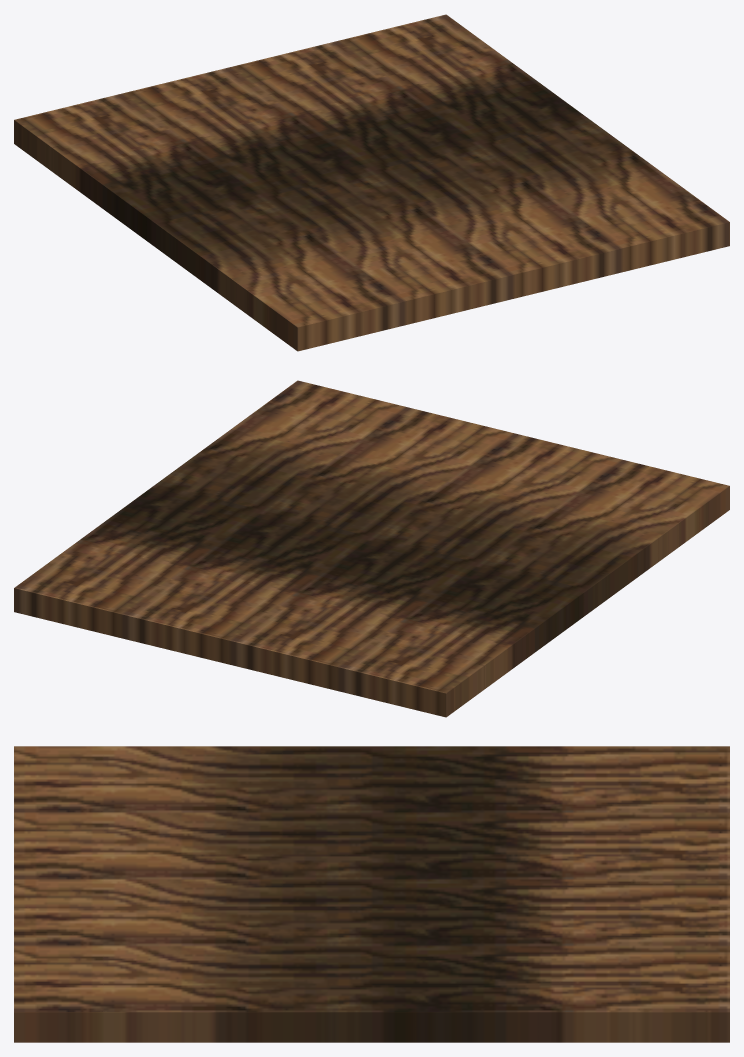
File: SWORDLIGHT20_MAINCAVPLAT02CONV02.fbx
3 renders of one model, top to bottom at view 1: azimuth 30°, elevation 25°; view 2: azimuth 150°, elevation 25°; view 3: azimuth 270°, elevation 25°, orthographic. The views are drawn at different scales.
Parts seen in each view (by area): view 1: SWORDLIGHT20_MAINCAVPLAT02CONV02; view 2: SWORDLIGHT20_MAINCAVPLAT02CONV02; view 3: SWORDLIGHT20_MAINCAVPLAT02CONV02.
Part boxes in pixels (x1,y1,x2,y2): SWORDLIGHT20_MAINCAVPLAT02CONV02: (14,14,729,351); SWORDLIGHT20_MAINCAVPLAT02CONV02: (14,380,729,717); SWORDLIGHT20_MAINCAVPLAT02CONV02: (14,746,729,1042).
Size of the model in its own units: 47176 by 2500 by 53631.
Materials: 1 (1 with a texture image).
